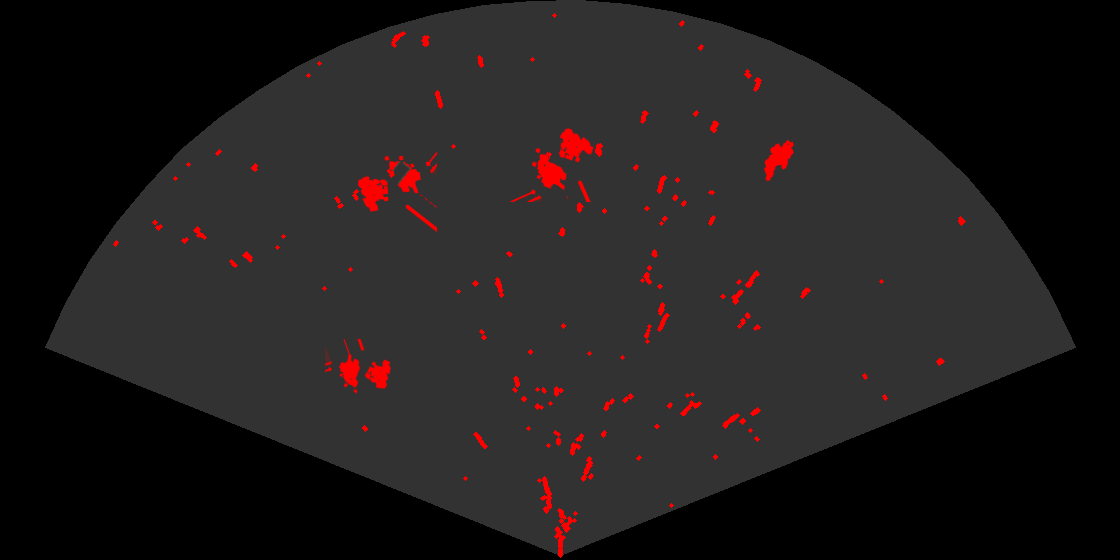AUV: (762, 138, 795, 183)
cage: (356, 150, 437, 234), (509, 127, 595, 202), (325, 339, 393, 395)
